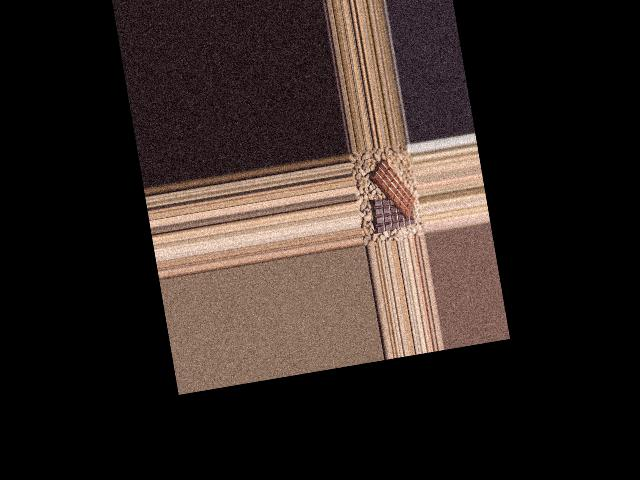chocolate: (367, 193, 418, 238)
